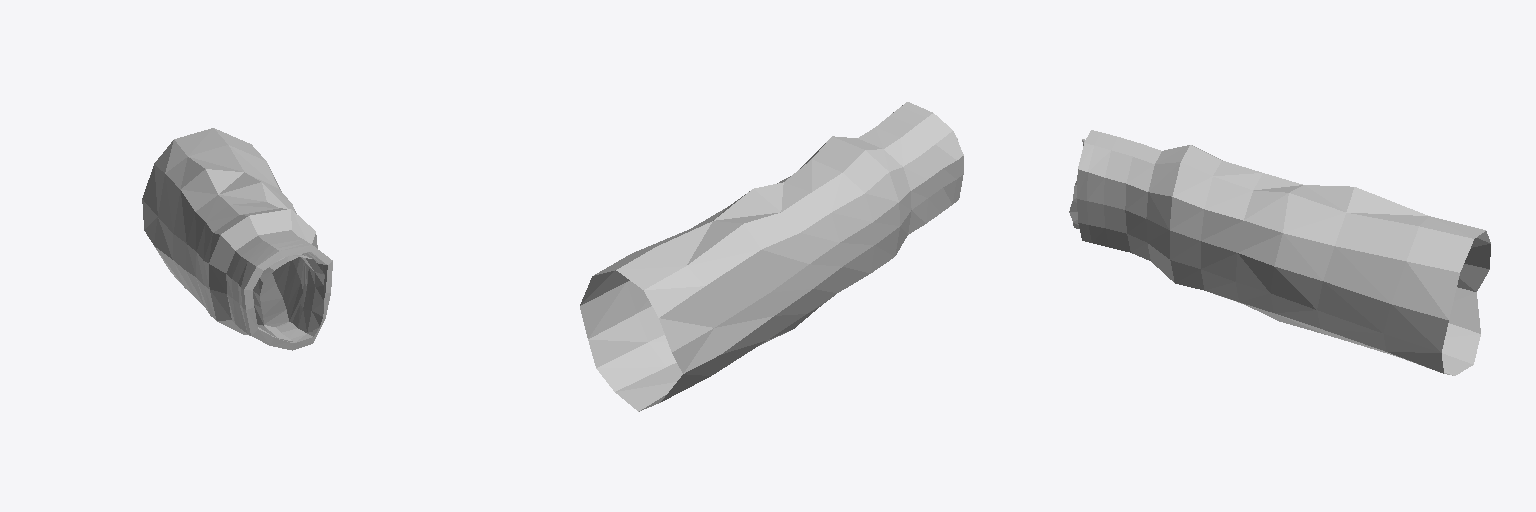
Rendered from r_forearm.obj.
The picture shows the model from 3 angles: view 1: azimuth 30°, elevation 25°; view 2: azimuth 150°, elevation 25°; view 3: azimuth 270°, elevation 25°; orthographic projection.
Parts seen in each view (by area): view 1: zoey_color_bmp_002_zoey_color_bmp.002; view 2: zoey_color_bmp_002_zoey_color_bmp.002; view 3: zoey_color_bmp_002_zoey_color_bmp.002.
Part boxes in pixels (bbox=[...]): zoey_color_bmp_002_zoey_color_bmp.002: bbox=[142, 128, 332, 350]; zoey_color_bmp_002_zoey_color_bmp.002: bbox=[580, 102, 963, 411]; zoey_color_bmp_002_zoey_color_bmp.002: bbox=[1069, 130, 1490, 375].
Bounding box in the file's own units: 5.85 × 5 × 10.28.